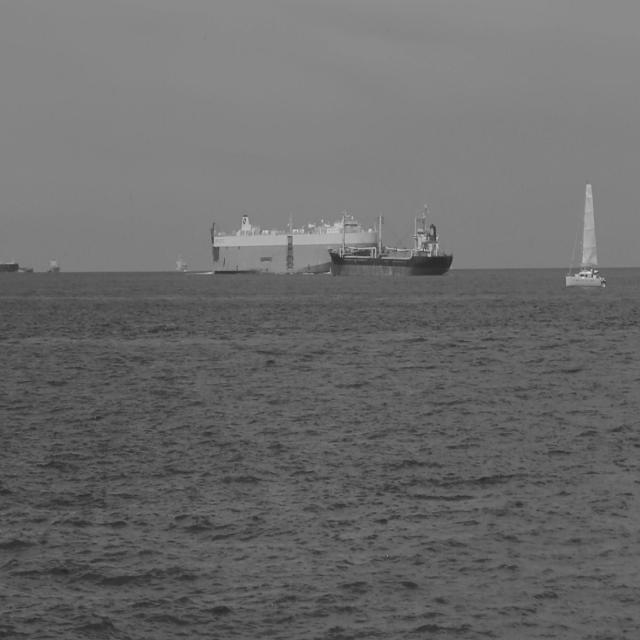ship: (208, 208, 378, 276), (326, 200, 456, 278), (564, 178, 606, 288), (0, 256, 20, 275), (46, 252, 60, 274), (16, 263, 34, 274)
